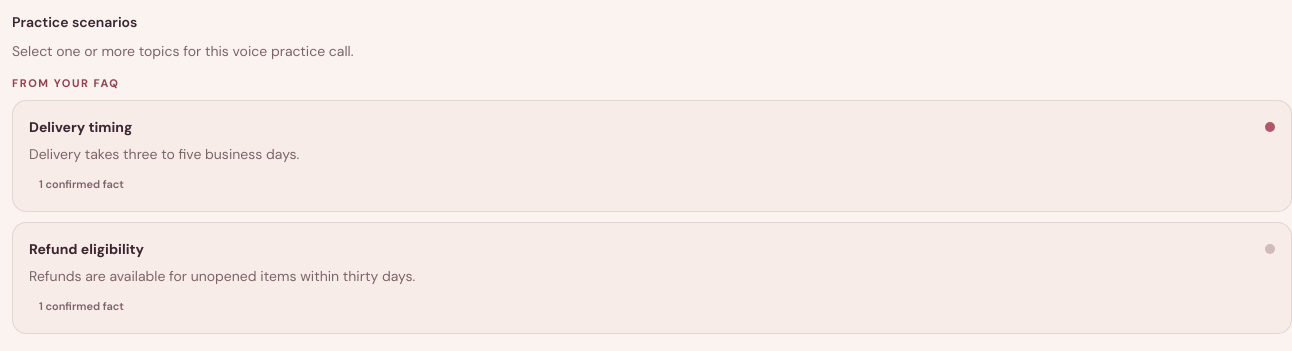
Test: ScenarioPicker › adds and removes scenarios without replacing an existing selection
Click the checkbox labelled "Refund eligibility": [652, 278] box [12, 222, 1291, 334]
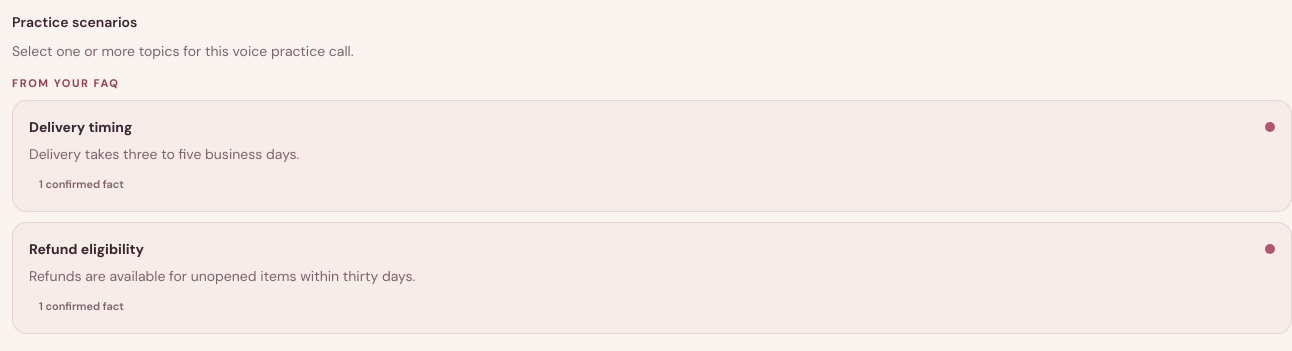
Check: the checkbox labelled "Refund eligibility" is checked, box [12, 222, 1291, 334]
Click the checkbox labelled "Delivery timing": [652, 156] box [12, 100, 1291, 212]
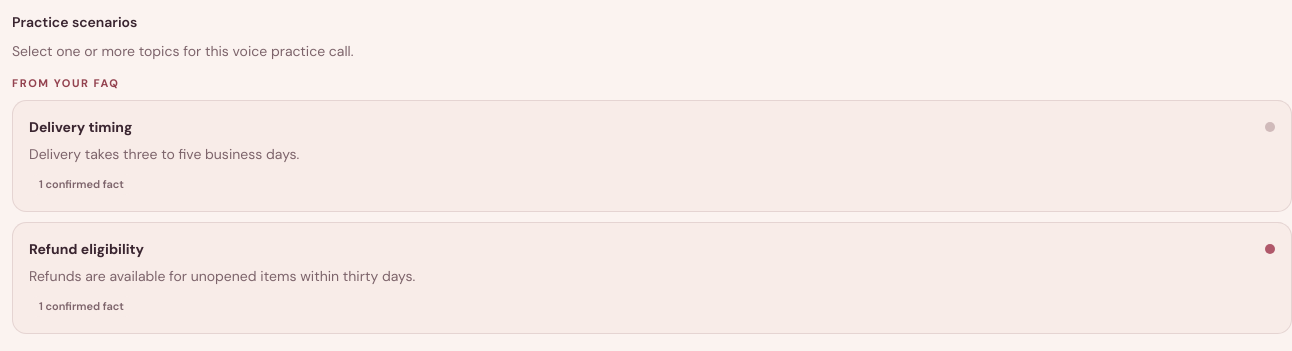
Check: the checkbox labelled "Delivery timing" is not checked, box [12, 100, 1291, 212]
Check: the checkbox labelled "Refund eligibility" is checked, box [12, 222, 1291, 334]
